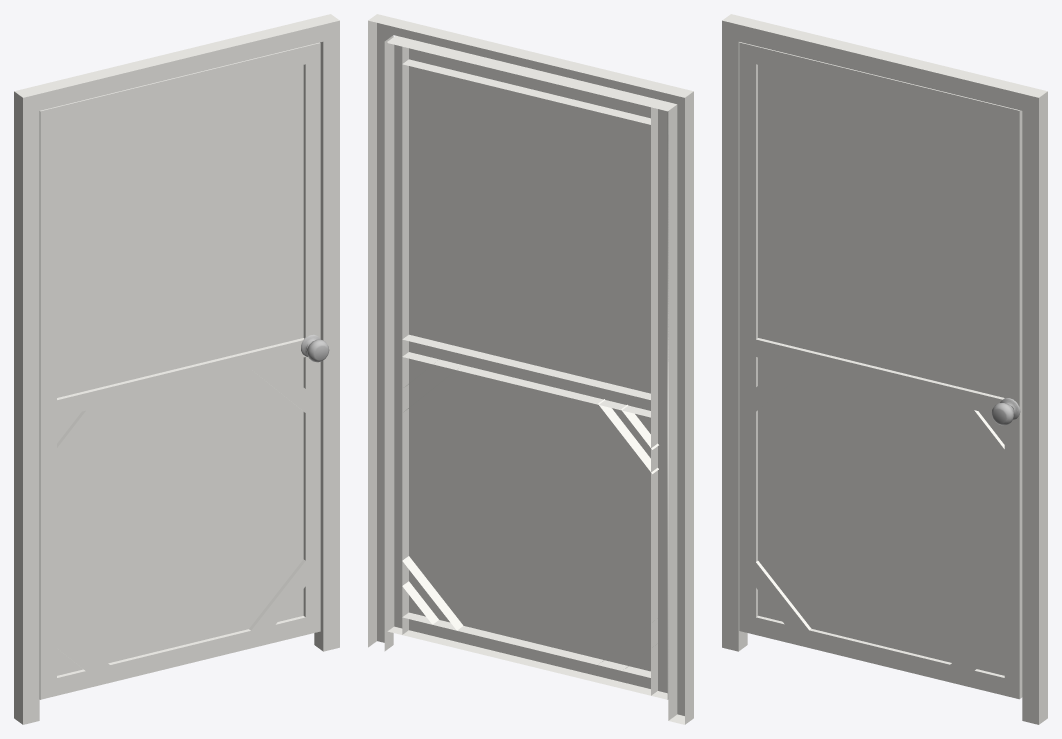
File: 3 ft smartside door.obj
3 views of the same model, side by side, from view 1: azimuth 30°, elevation 25°; view 2: azimuth 150°, elevation 25°; view 3: azimuth 330°, elevation 25° (orthographic).
Parts seen in each view (by area): view 1: Door.000, Trim_Door_Frame.001, Metal_Door_Metal_Door_Metal.000; view 2: Door.000, Trim_Door_Frame.001; view 3: Door.000, Trim_Door_Frame.001, Metal_Door_Metal_Door_Metal.000.
Part boxes in pixels (left/top/right/bottom): Door.000: left=57, top=65, right=303, bottom=675; Trim_Door_Frame.001: left=14, top=14, right=339, bottom=724; Metal_Door_Metal_Door_Metal.000: left=301, top=334, right=329, bottom=362; Door.000: left=387, top=35, right=684, bottom=724; Trim_Door_Frame.001: left=368, top=14, right=693, bottom=724; Door.000: left=758, top=65, right=1004, bottom=675; Trim_Door_Frame.001: left=722, top=14, right=1047, bottom=724; Metal_Door_Metal_Door_Metal.000: left=991, top=398, right=1020, bottom=425.
Size of the model in its own units: 1.03 by 1.95 by 0.1088.
